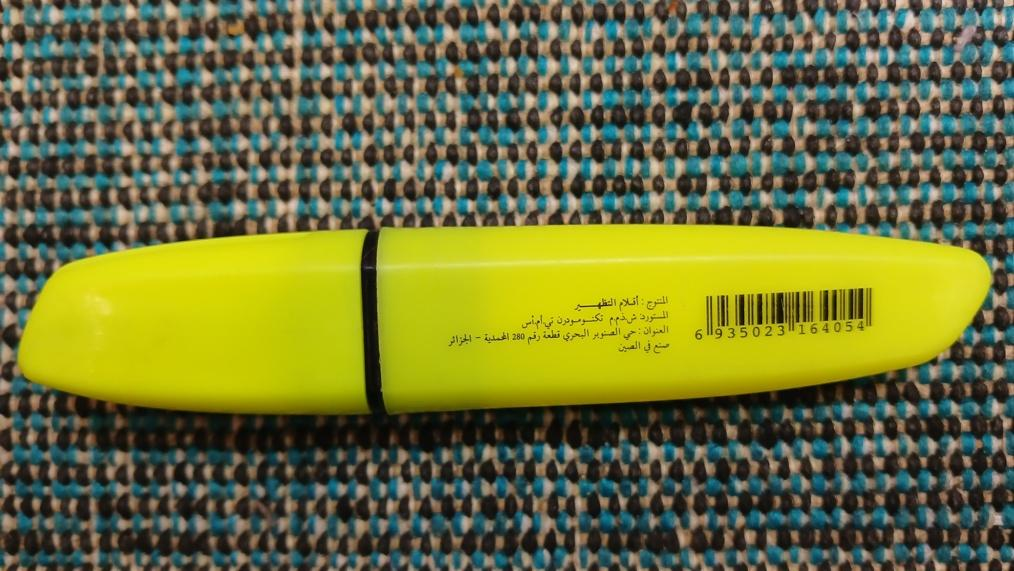Highlighter: (16, 225, 991, 410)
